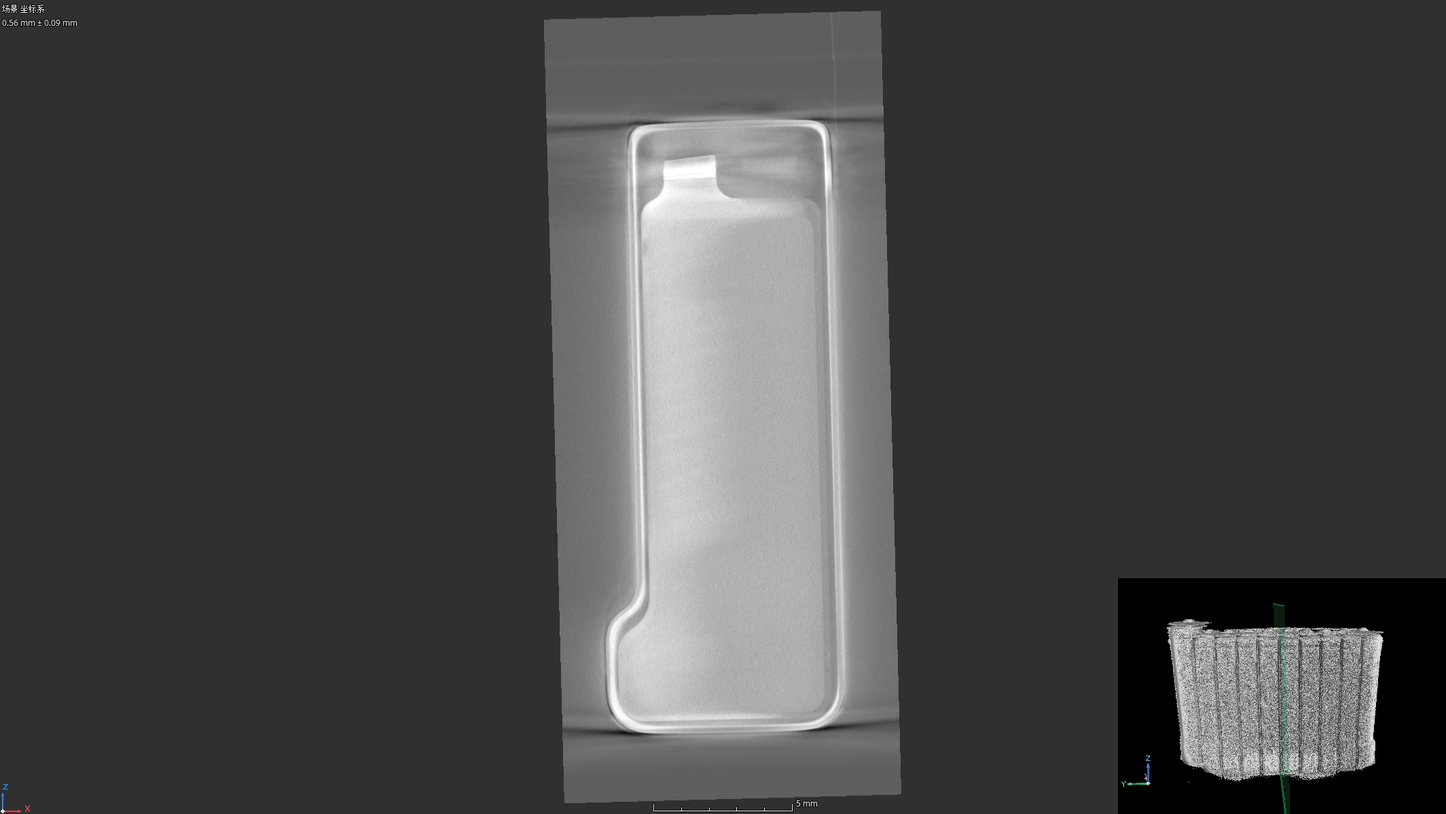damage: (641, 239, 648, 256)
